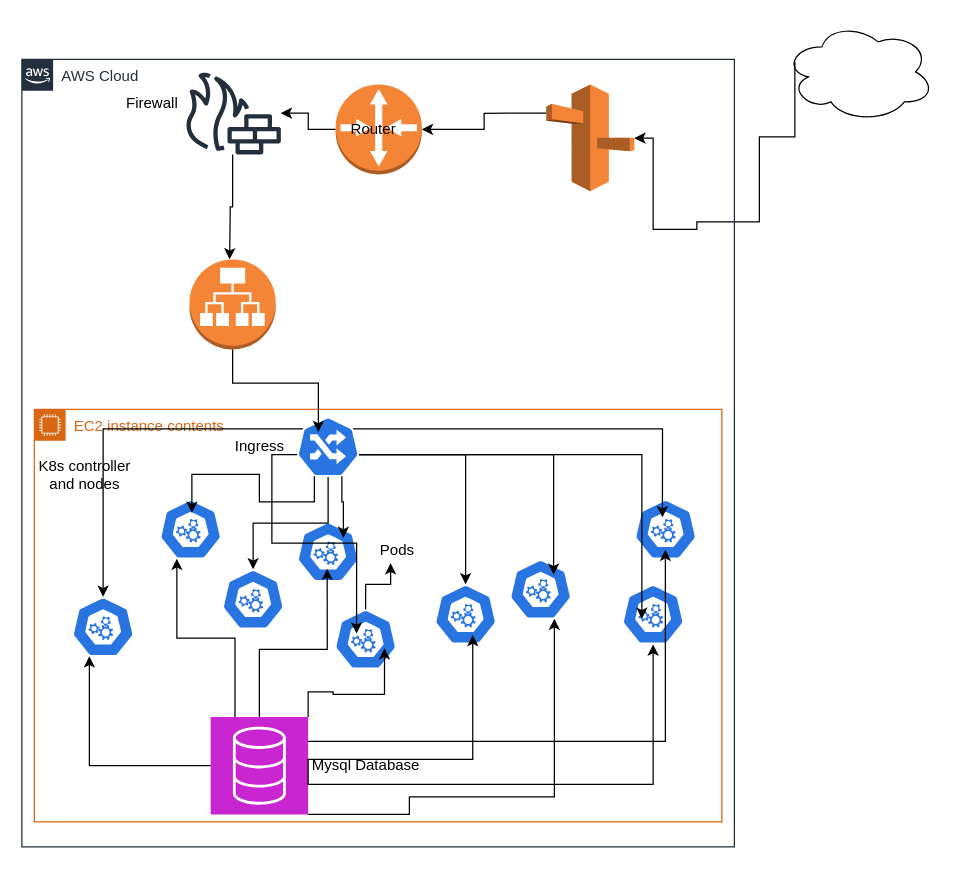
Some shapes in this 956 by 879 pixel diagram are drawn without their labels. Here are the shapes that lost their labels. From the top down, the centre of each, then its label:
At [589,137]: "Route 53".
At [232,303]: "Load Balancer".
